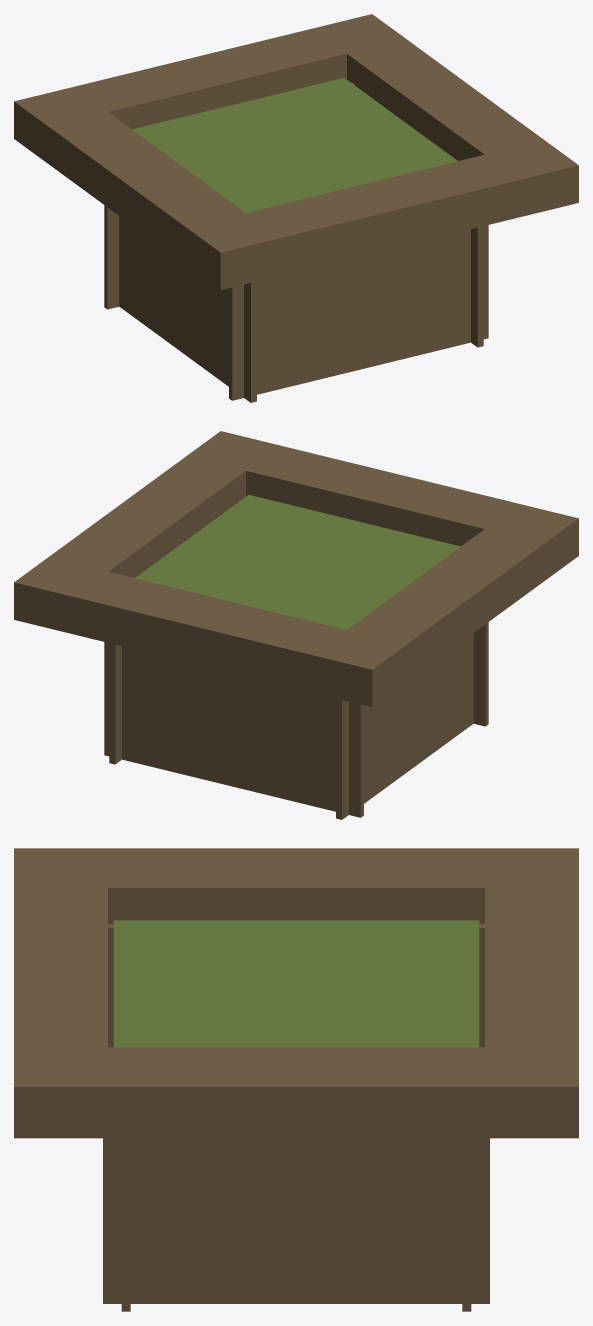
File: punji_trap.glb
3 views of the same model, one above another, from view 1: azimuth 30°, elevation 25°; view 2: azimuth 150°, elevation 25°; view 3: azimuth 270°, elevation 25° (orthographic). The views are drawn at different scales.
Visible parts, largest first — view 1: Ground, WallFront, DoorRight, WallLeft, DoorLeft, WallBack, WallRight; view 2: Ground, WallBack, DoorRight, WallLeft, DoorLeft, WallFront, WallRight; view 3: Ground, WallRight, DoorLeft, DoorRight, WallFront, WallBack, WallLeft.
Part boxes in pixels (x1,y1,x2,y2): Ground: (14, 14, 578, 289); WallFront: (229, 225, 488, 400); DoorRight: (230, 78, 457, 188); WallLeft: (119, 216, 256, 402); DoorLeft: (132, 105, 343, 212); WallBack: (104, 82, 355, 309); WallRight: (471, 226, 483, 347); Ground: (14, 431, 578, 706); WallBack: (104, 642, 363, 817); DoorRight: (135, 495, 362, 605); WallLeft: (336, 633, 473, 819); DoorLeft: (249, 522, 460, 629); WallFront: (237, 499, 488, 726); WallRight: (109, 643, 121, 764); Ground: (14, 848, 578, 1138); WallRight: (103, 1138, 489, 1303); DoorLeft: (113, 920, 479, 996); DoorRight: (113, 996, 479, 1047); WallFront: (121, 1138, 130, 1311); WallBack: (462, 1138, 471, 1311); WallLeft: (108, 924, 484, 1047).
Size of the model in its own units: 1.5 by 0.7577 by 1.5.
